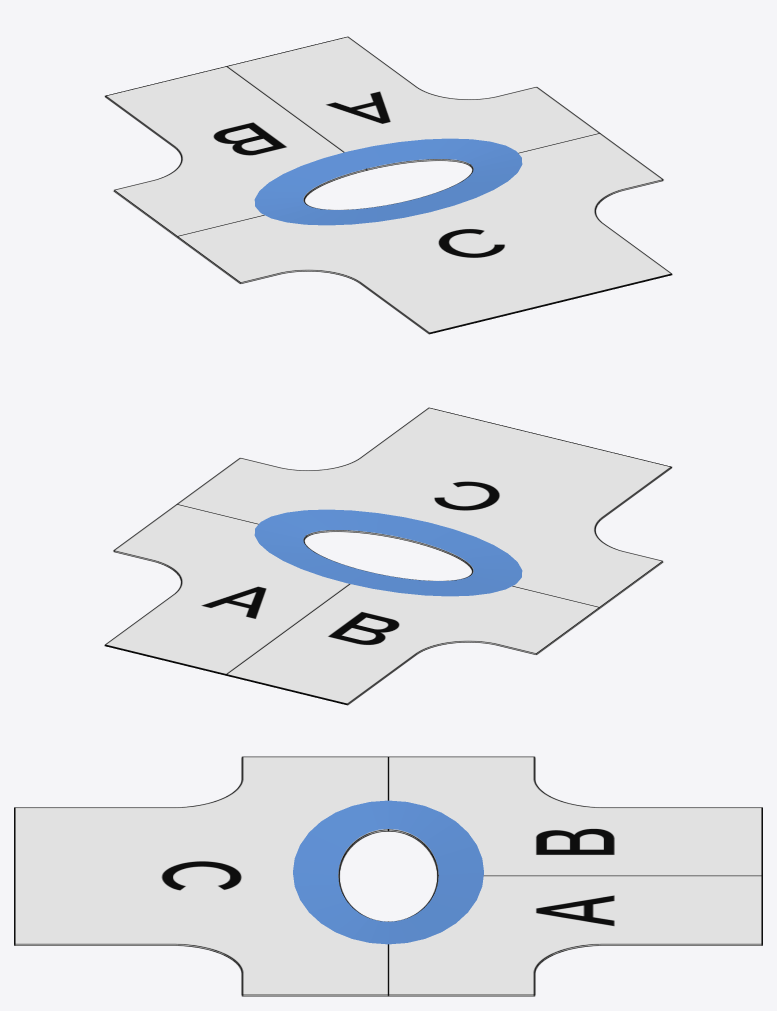
Rendered from sewing_shape_key_test.glb.
3 views of the same model, one above another, from view 1: azimuth 30°, elevation 25°; view 2: azimuth 150°, elevation 25°; view 3: azimuth 270°, elevation 25° (orthographic). The views are drawn at different scales.
Visible parts, largest first — view 1: sewing step 6.001, Circle.001; view 2: sewing step 6.001, Circle.001; view 3: sewing step 6.001, Circle.001.
Part boxes in pixels (box(x1,y1,x2,y2)): sewing step 6.001: box(104, 36, 672, 334); Circle.001: box(254, 138, 522, 225); sewing step 6.001: box(104, 407, 672, 705); Circle.001: box(254, 509, 522, 596); sewing step 6.001: box(14, 756, 762, 996); Circle.001: box(293, 800, 483, 944).
Bounding box in the file's own units: 0.7557 × 0.00694 × 1.
2 materials, 1 textured.
